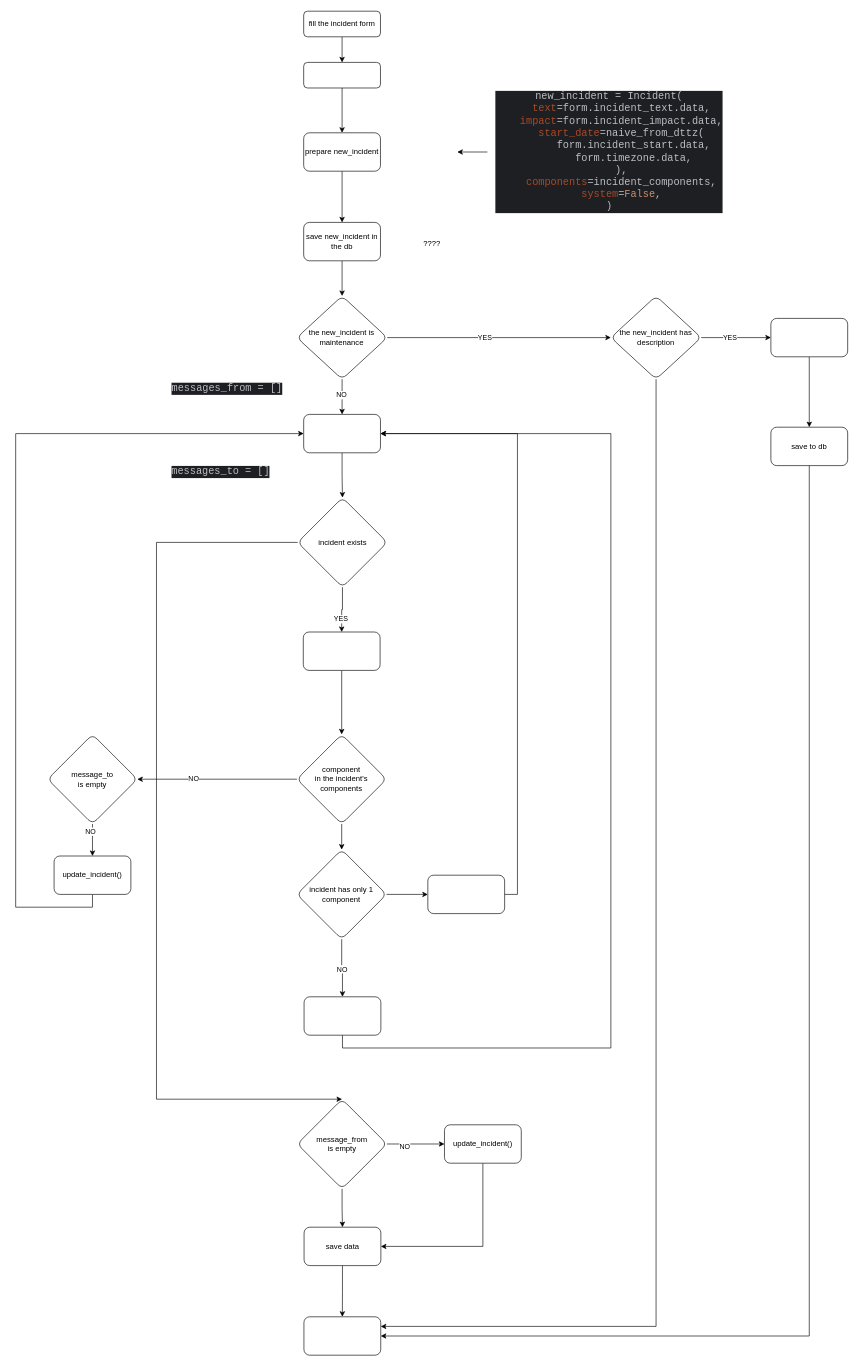
Some shapes in this 859 by 1366 pixel diagram are drawn without their labels. Here are the shapes that lost their labels. From the top down, the centre of each, then its label:
At point 341,75: "get all active incidents".
At point 809,337: "add status to incident".
At point 341,433: "get an incident from active incidents".
At point 341,650: "get component from new_incident".
At point 466,894: "close incident".
At point 342,1015: "remove component from the incident".
At point 342,1335: "done".
